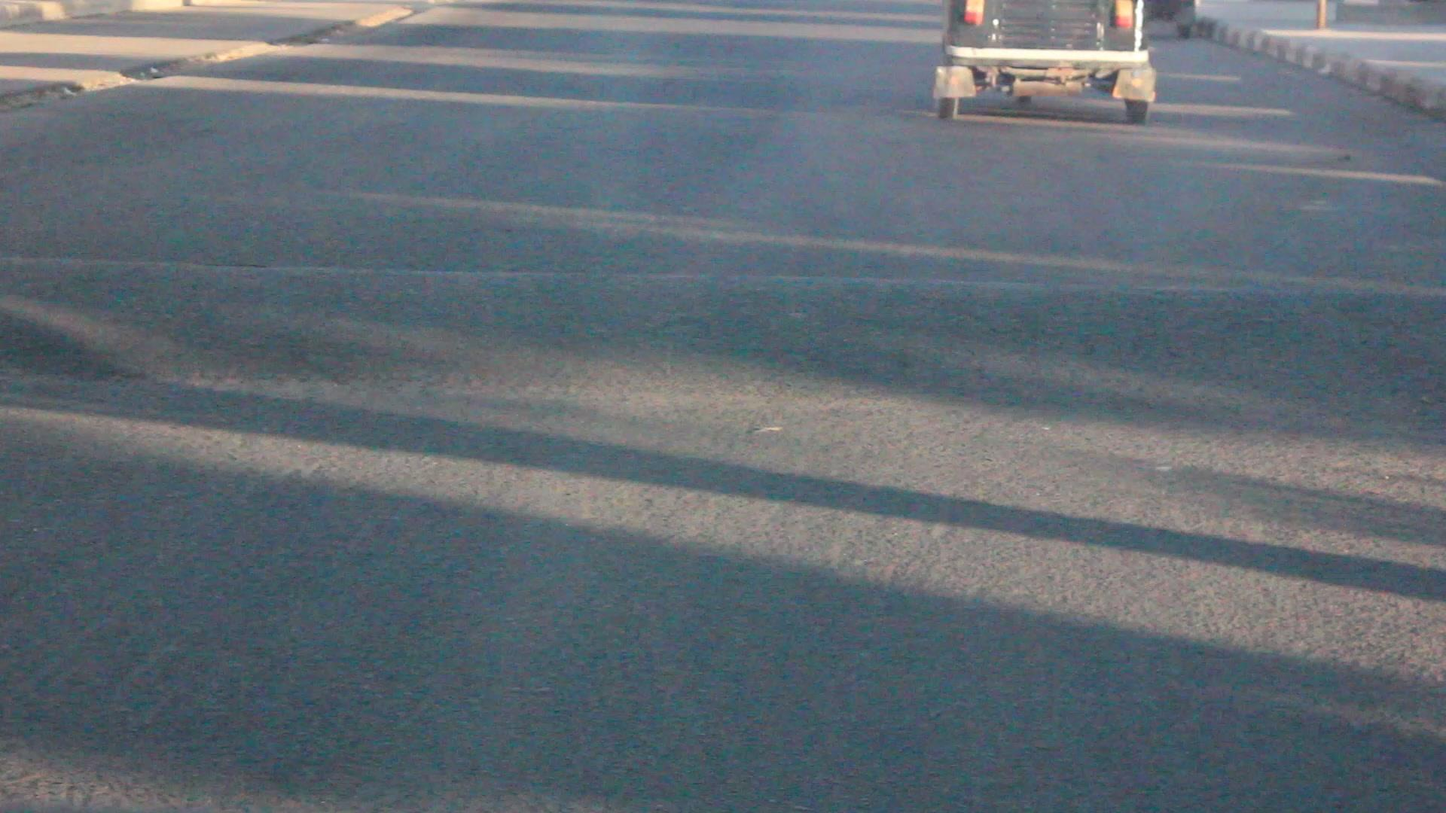Bump: (4, 243, 1446, 427)
